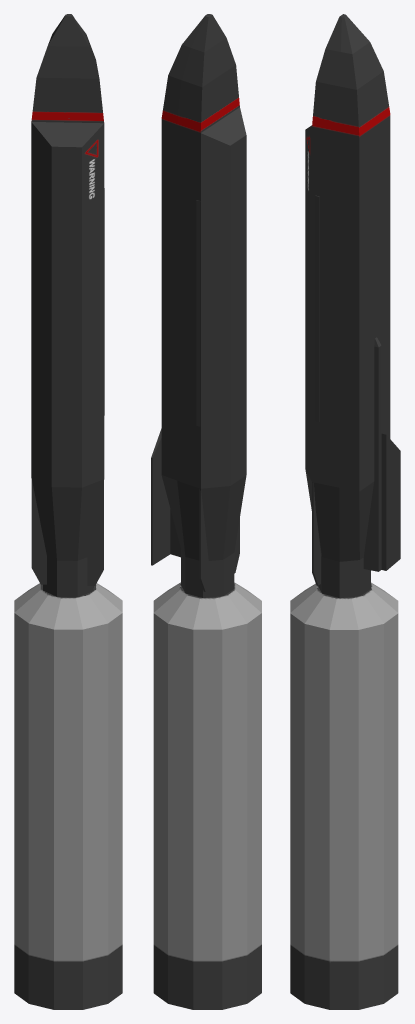
The model's file is cruise_missile_closed.fbx.
The picture shows the model from 3 angles, left to right: view 1: azimuth 90°, elevation 25°; view 2: azimuth 150°, elevation 25°; view 3: azimuth 330°, elevation 25°; orthographic projection.
Parts seen in each view (by area): view 1: cruise_missile_booster, cruise_missile_body_closed; view 2: cruise_missile_booster, cruise_missile_body_closed, cruise_missile_vertfin_closed, cruise_missile_wing_closed_2; view 3: cruise_missile_booster, cruise_missile_body_closed, cruise_missile_vertfin_closed, cruise_missile_wing_closed_1.
Part boxes in pixels (<box>): cruise_missile_booster: <box>14,583,122,1009</box>; cruise_missile_body_closed: <box>31,14,104,597</box>; cruise_missile_booster: <box>153,582,261,1009</box>; cruise_missile_body_closed: <box>161,14,246,597</box>; cruise_missile_vertfin_closed: <box>151,428,170,565</box>; cruise_missile_wing_closed_2: <box>196,200,200,426</box>; cruise_missile_booster: <box>290,582,398,1009</box>; cruise_missile_body_closed: <box>305,14,390,598</box>; cruise_missile_vertfin_closed: <box>381,433,400,570</box>; cruise_missile_wing_closed_1: <box>315,195,319,421</box>.
Bounding box in the file's own units: 24.03 × 238 × 24.03.
Materials: 1 (1 with a texture image).
